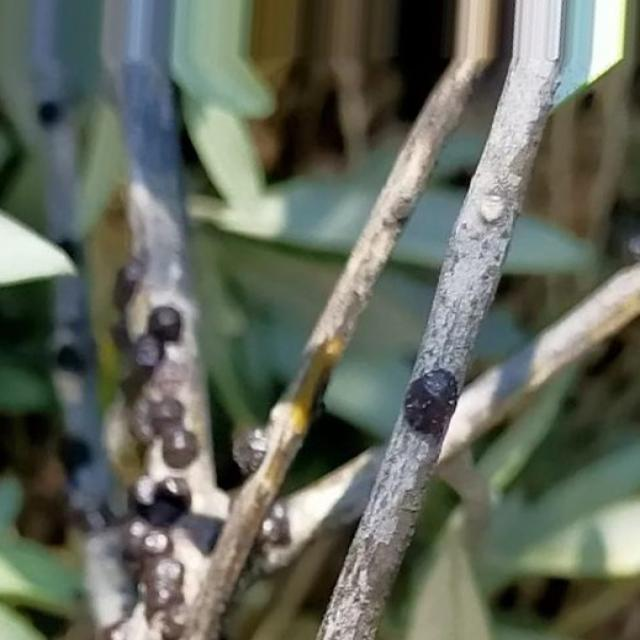BlackScale: (110, 268, 198, 618), (402, 368, 455, 439), (232, 425, 268, 476)
